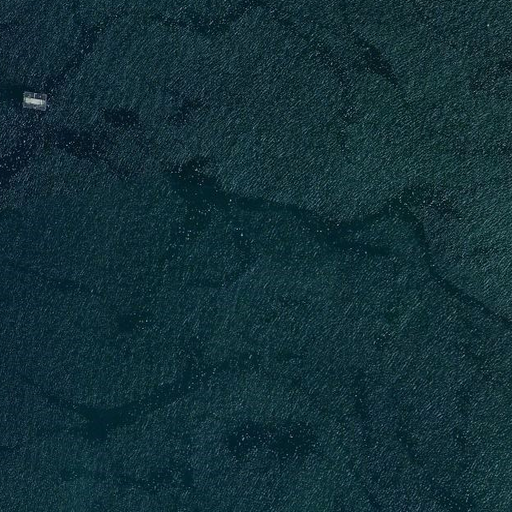ship: (19, 88, 51, 115)
